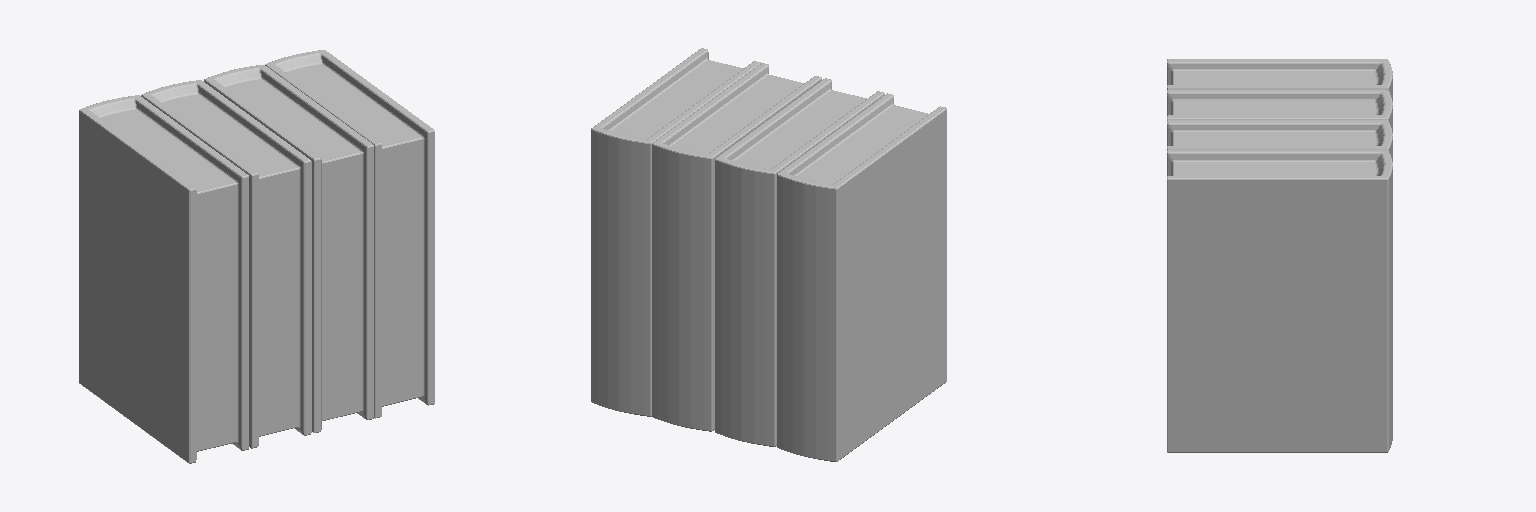
File: book.obj
3 views of the same model, side by side, from view 1: azimuth 30°, elevation 25°; view 2: azimuth 150°, elevation 25°; view 3: azimuth 270°, elevation 25° (orthographic).
Parts seen in each view (by area): view 1: table2.002_Plane.029, table2.000_Plane.004, table2.001_Plane.005, table2.003_Plane.006; view 2: table2.002_Plane.029, table2.001_Plane.005, table2.000_Plane.004, table2.003_Plane.006; view 3: table2.003_Plane.006, table2.002_Plane.029, table2.000_Plane.004, table2.001_Plane.005.
Boxes of the visible parts, x1,y1,x2,y2 form: table2.002_Plane.029: [79, 95, 248, 463]; table2.000_Plane.004: [141, 80, 311, 448]; table2.001_Plane.005: [204, 65, 373, 432]; table2.003_Plane.006: [265, 50, 434, 418]; table2.002_Plane.029: [777, 93, 946, 461]; table2.001_Plane.005: [652, 63, 821, 431]; table2.000_Plane.004: [715, 78, 884, 446]; table2.003_Plane.006: [591, 48, 760, 416]; table2.003_Plane.006: [1167, 150, 1392, 452]; table2.002_Plane.029: [1167, 59, 1392, 100]; table2.000_Plane.004: [1167, 90, 1392, 131]; table2.001_Plane.005: [1167, 120, 1392, 160].
Bounding box in the file's own units: 0.6088 × 0.6479 × 0.4837.